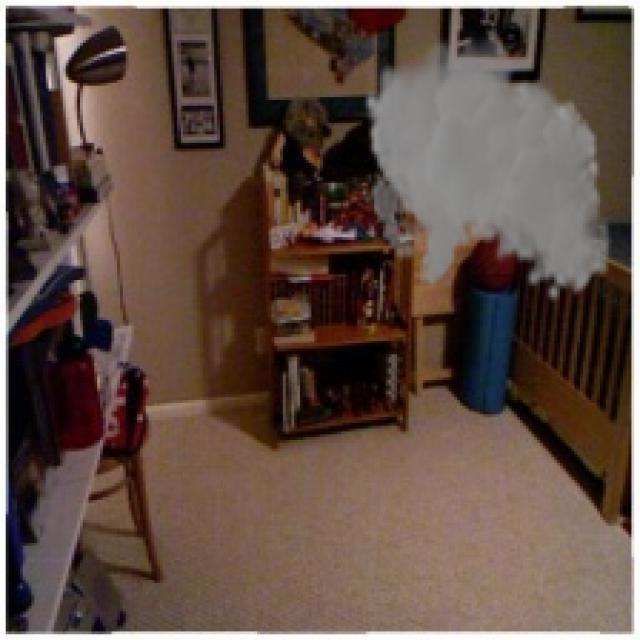Smoke: (363, 26, 611, 303)
